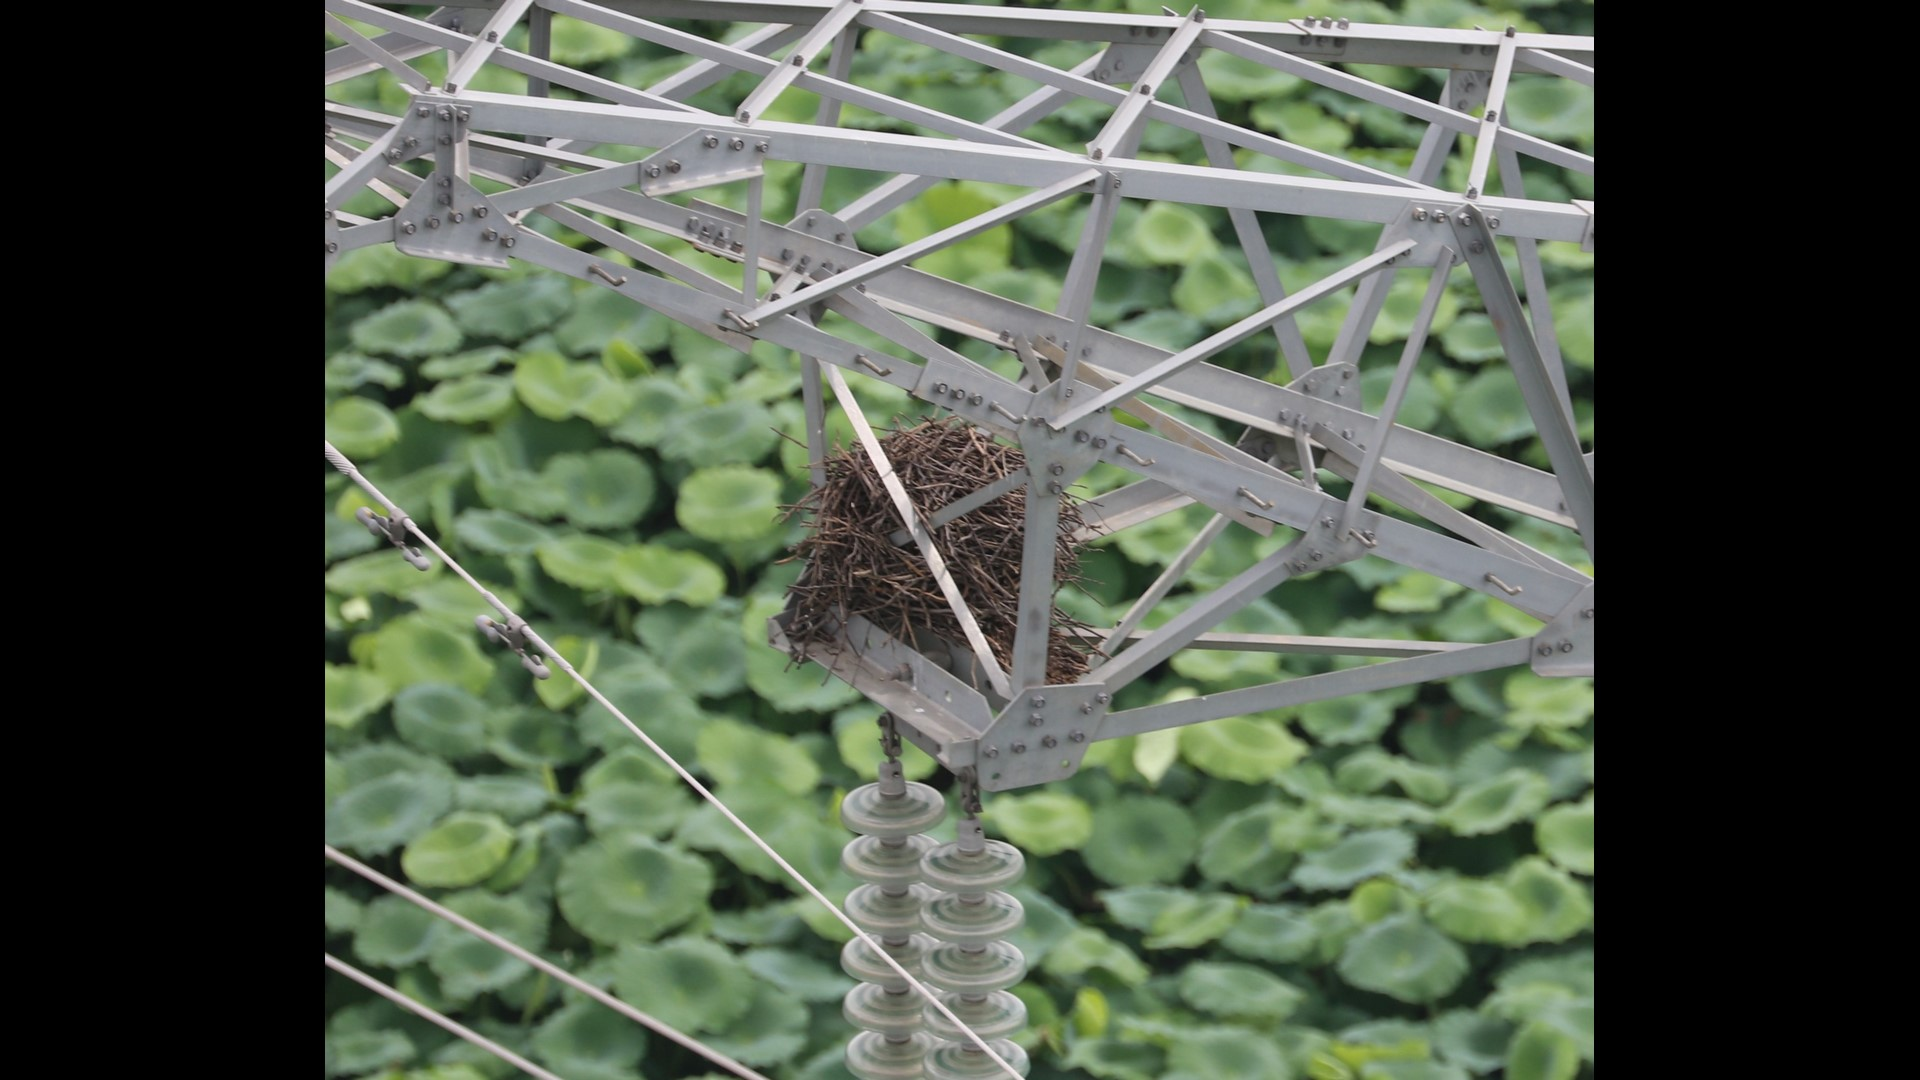niaowo: (746, 381, 1108, 679)
